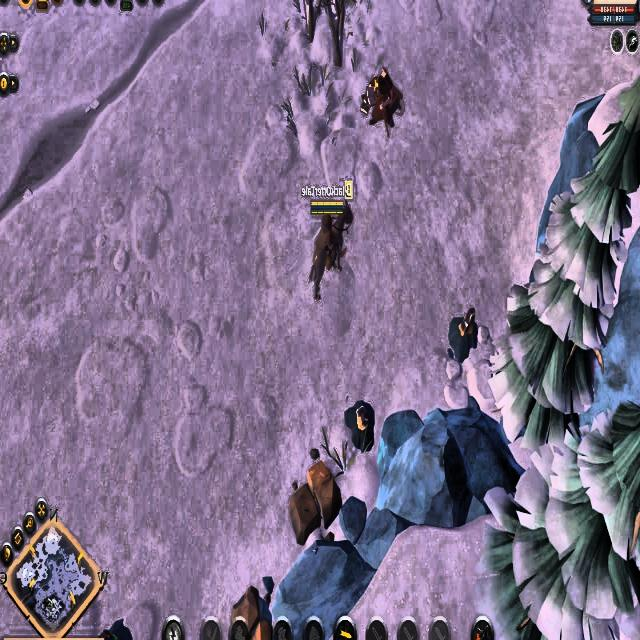copperore: (446, 306, 480, 364), (344, 398, 377, 450)
limestone: (290, 462, 342, 547), (223, 587, 274, 640)
tinore: (94, 613, 132, 640)
